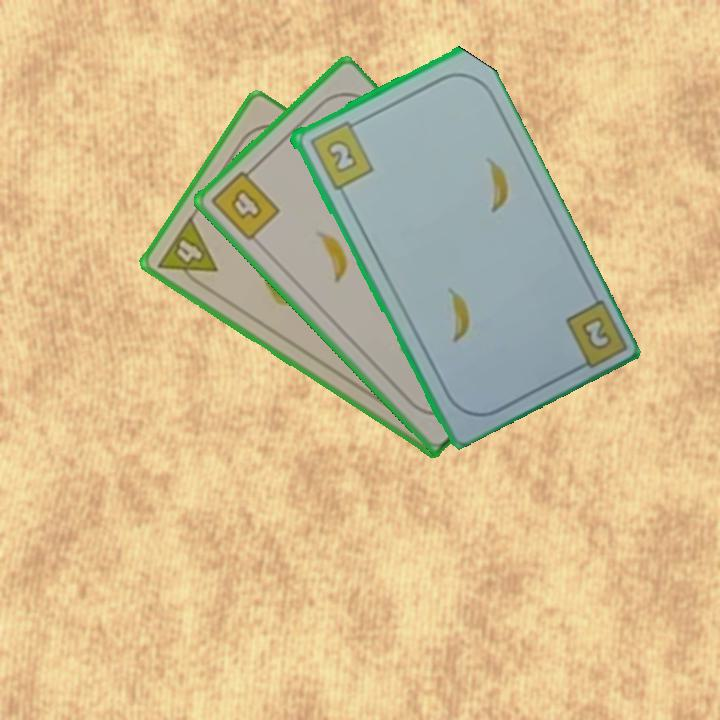2b: (306, 116, 376, 193), (577, 312, 611, 350)
4b: (207, 162, 283, 244)
4p: (154, 213, 220, 292)
